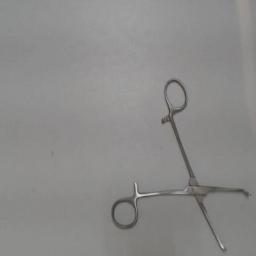Allis Tissue Forceps: (108, 72, 254, 256)
